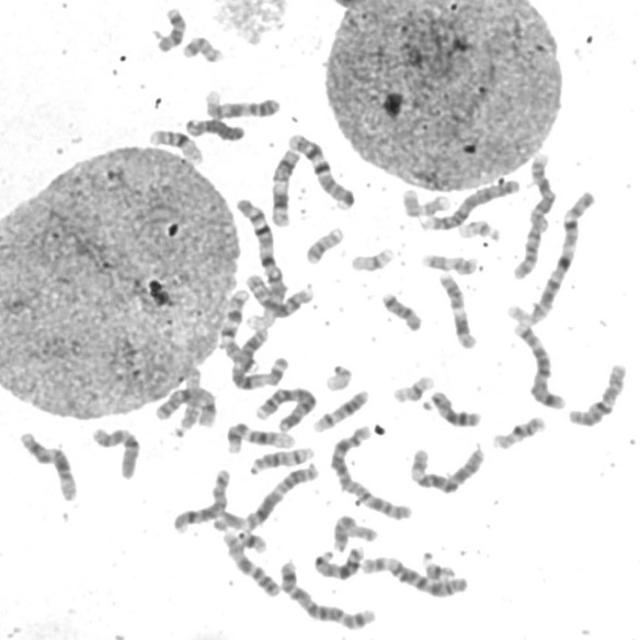A1: (505, 185, 598, 328), (232, 191, 290, 331)
A2: (328, 420, 417, 521), (509, 147, 557, 280)
A3: (235, 457, 323, 531), (225, 322, 292, 390)
B4: (418, 174, 522, 232), (251, 382, 320, 431)
B5: (275, 555, 381, 631), (510, 316, 570, 411)
C10: (564, 357, 630, 429), (93, 426, 141, 480)
C11: (435, 267, 481, 350), (266, 143, 304, 228)
C12: (15, 426, 81, 502), (222, 417, 299, 455)
C6: (358, 551, 472, 599), (405, 440, 488, 495)
C7: (284, 127, 359, 210), (216, 284, 261, 371)
C8: (168, 463, 234, 535), (246, 271, 316, 315)
C9: (219, 526, 281, 598), (200, 86, 284, 120)
D13: (423, 385, 485, 429), (310, 541, 367, 582)
D14: (309, 384, 372, 433), (246, 441, 317, 476)
D15: (169, 362, 204, 438), (328, 509, 382, 554)
E16: (145, 124, 207, 165), (488, 410, 550, 451)
E17: (398, 184, 454, 218), (417, 247, 481, 276)
E18: (378, 286, 426, 332), (152, 2, 189, 53)
F19: (389, 369, 438, 404), (347, 241, 398, 273)
F20: (302, 221, 346, 265), (178, 30, 226, 64)
G21: (417, 547, 460, 583), (233, 525, 270, 555)
G22: (454, 215, 504, 242), (322, 359, 355, 391)
X: (151, 382, 220, 429)
Y: (181, 112, 248, 144)
